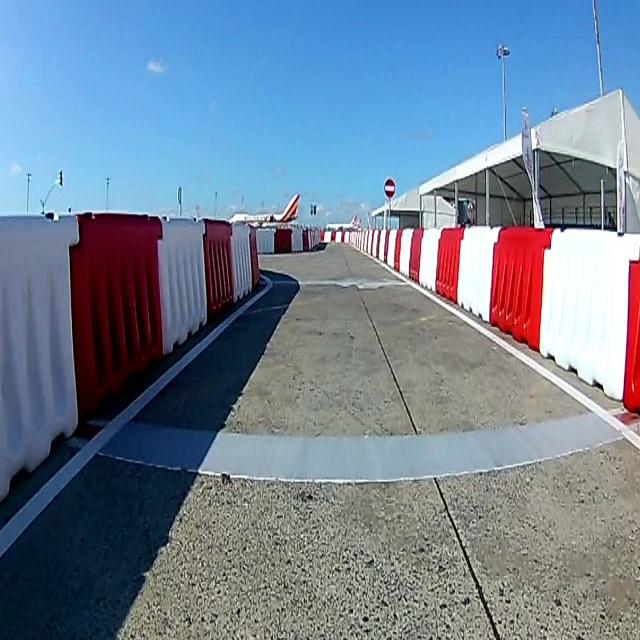girisyok: (384, 177, 396, 199)
